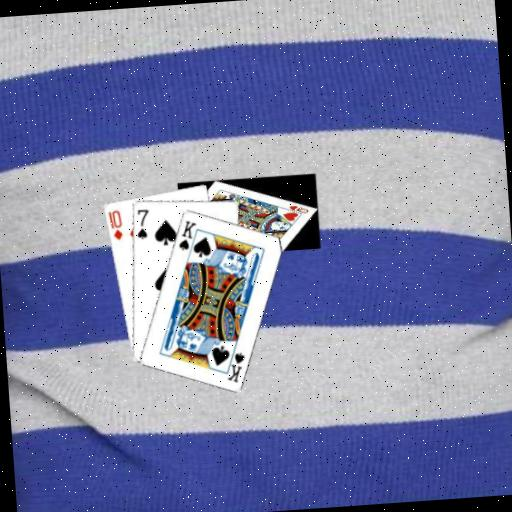10D: (105, 207, 125, 243)
7S: (133, 206, 152, 241)
KS: (220, 344, 248, 385), (174, 217, 200, 253)
